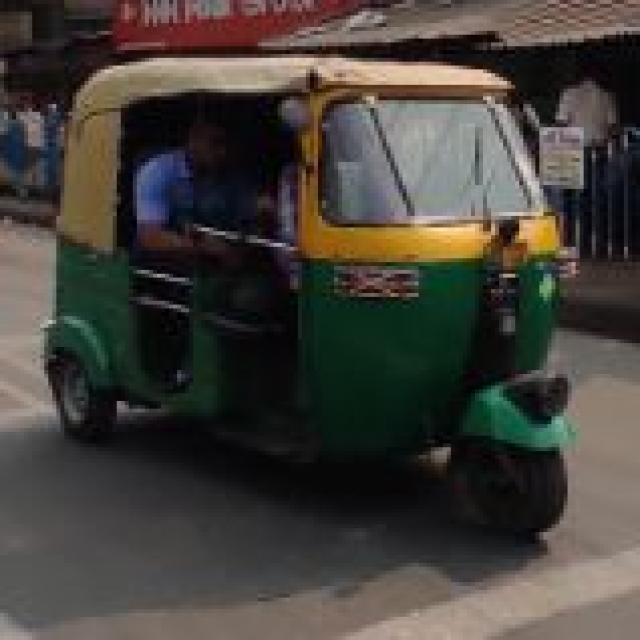autorickshaw: (48, 50, 588, 551)
